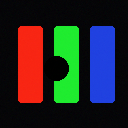2 circle: (44, 56, 68, 80)
